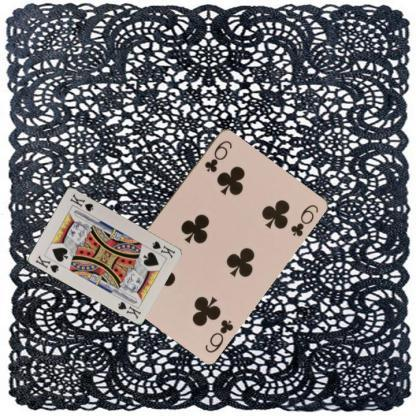6c: (202, 316, 235, 354), (202, 136, 233, 174)
Ks: (33, 252, 61, 274), (150, 238, 176, 259)
